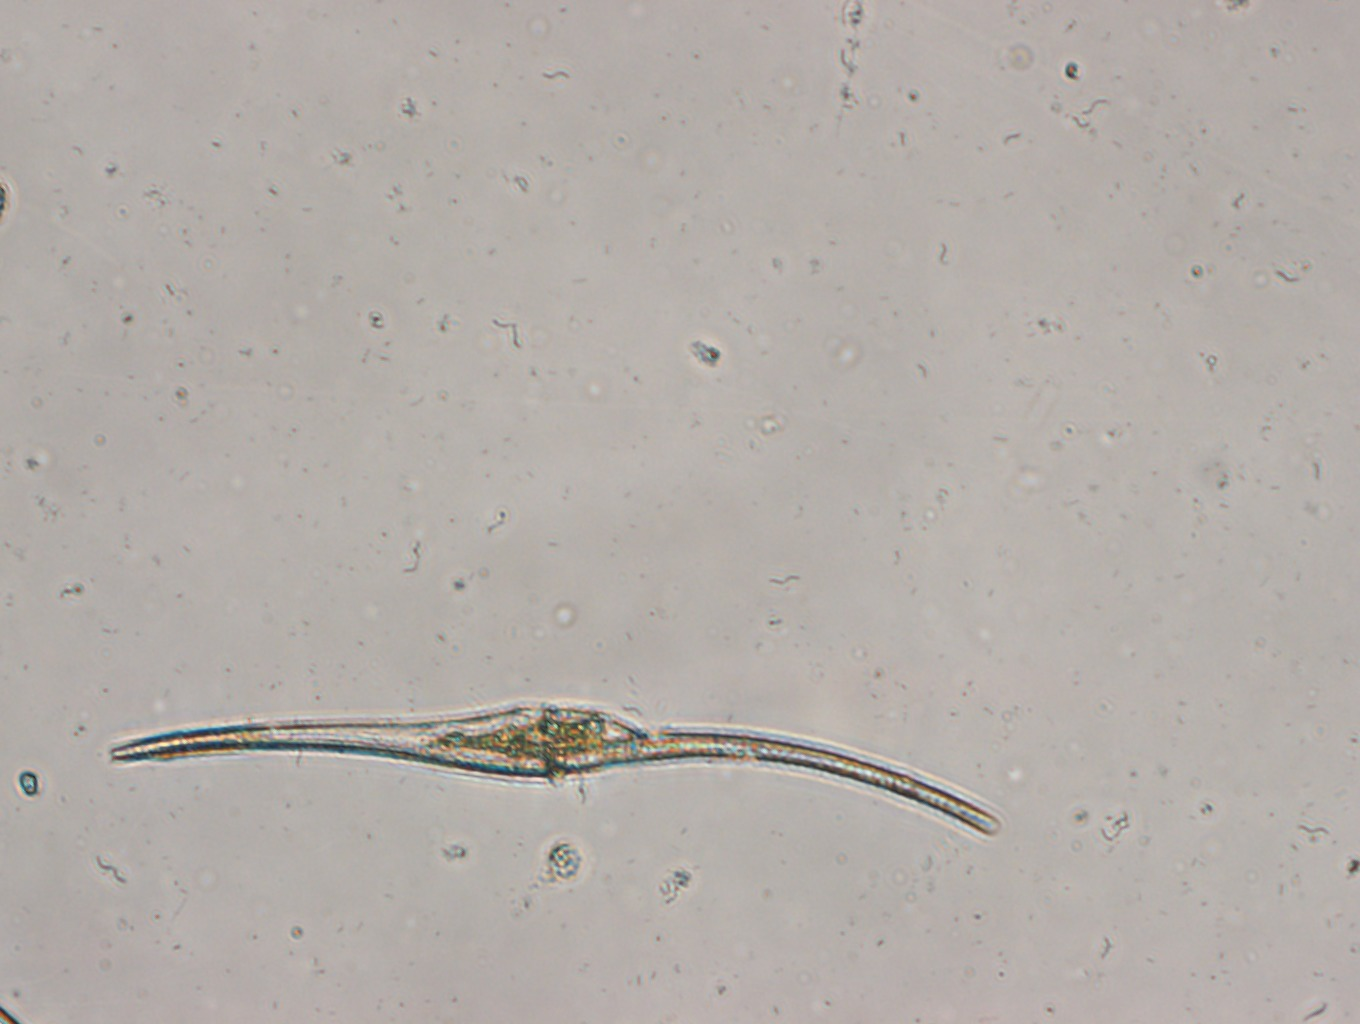ceratium fusus: (102, 683, 1010, 852)
